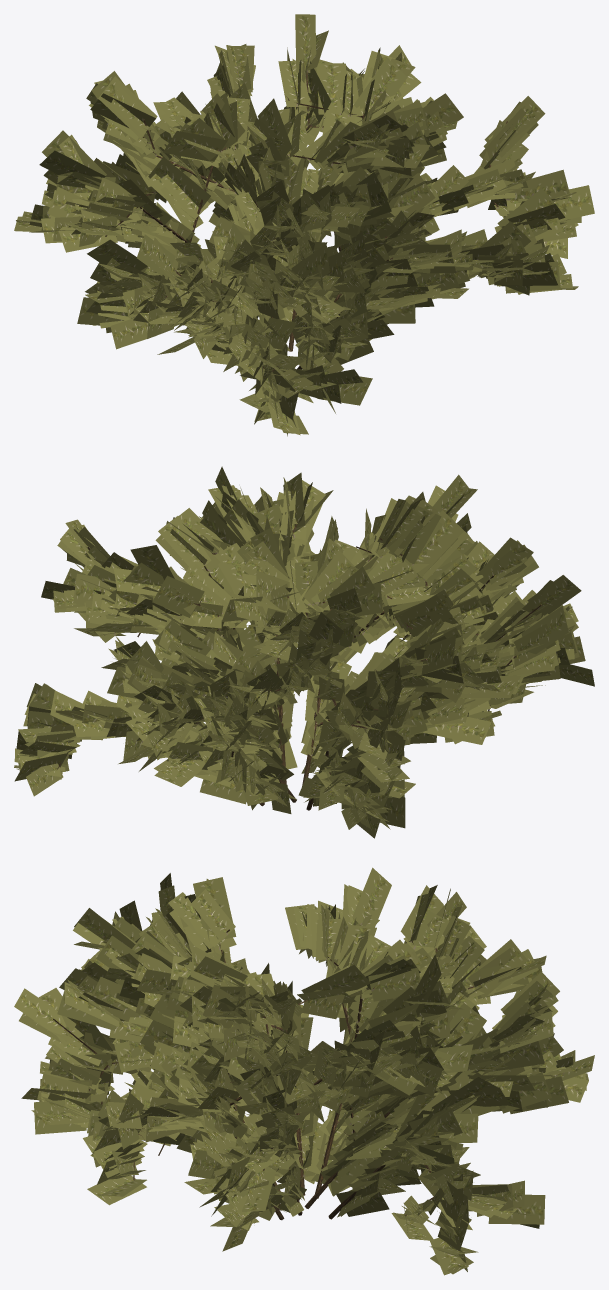
The model's file is thorn_scrub_v02_LOD1.glb.
3 renders of one model, top to bottom at view 1: azimuth 30°, elevation 25°; view 2: azimuth 150°, elevation 25°; view 3: azimuth 270°, elevation 25°, orthographic. The views are drawn at different scales.
Visible parts, largest first — view 1: thorn_scrub_v02_LOD1; view 2: thorn_scrub_v02_LOD1; view 3: thorn_scrub_v02_LOD1.
Part boxes in pixels (box(x1,y1,x2,y2)): thorn_scrub_v02_LOD1: box(14, 14, 594, 436); thorn_scrub_v02_LOD1: box(14, 466, 594, 838); thorn_scrub_v02_LOD1: box(14, 867, 594, 1275).
Bounding box in the file's own units: 3.64 × 2 × 3.58.
2 materials, 2 textured.
